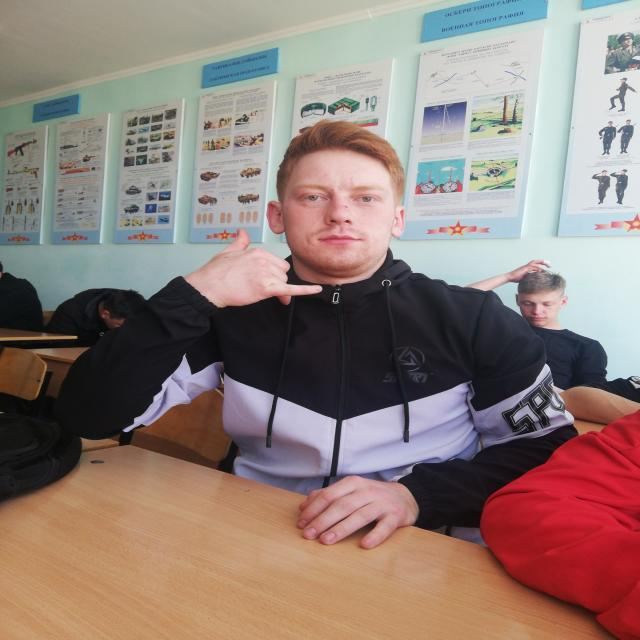call: (193, 226, 325, 308)
